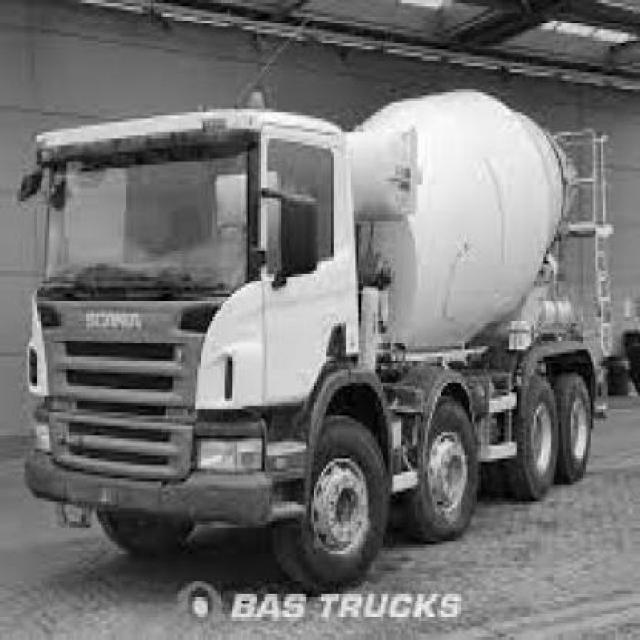Concrete Mixer: (16, 90, 616, 595)
